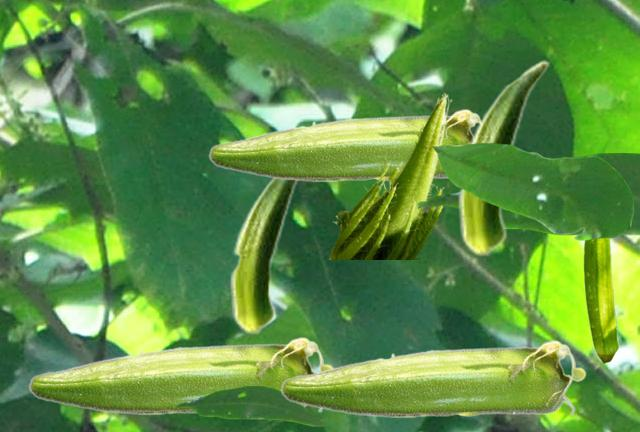okra: (28, 336, 333, 414), (280, 339, 585, 417), (327, 92, 451, 258), (208, 108, 480, 181), (457, 60, 548, 256), (229, 179, 301, 334), (583, 239, 618, 363)
